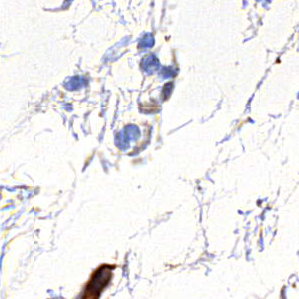Lymphocyte: (77, 263, 112, 299)
